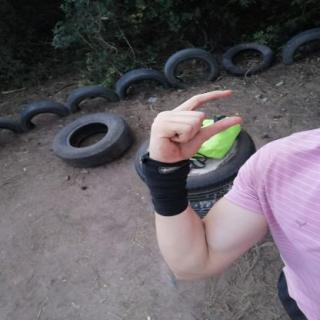DELL: (139, 84, 251, 170)
